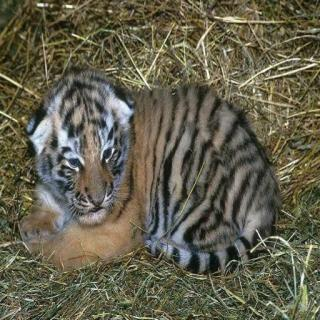Tiger: (13, 52, 297, 290)
